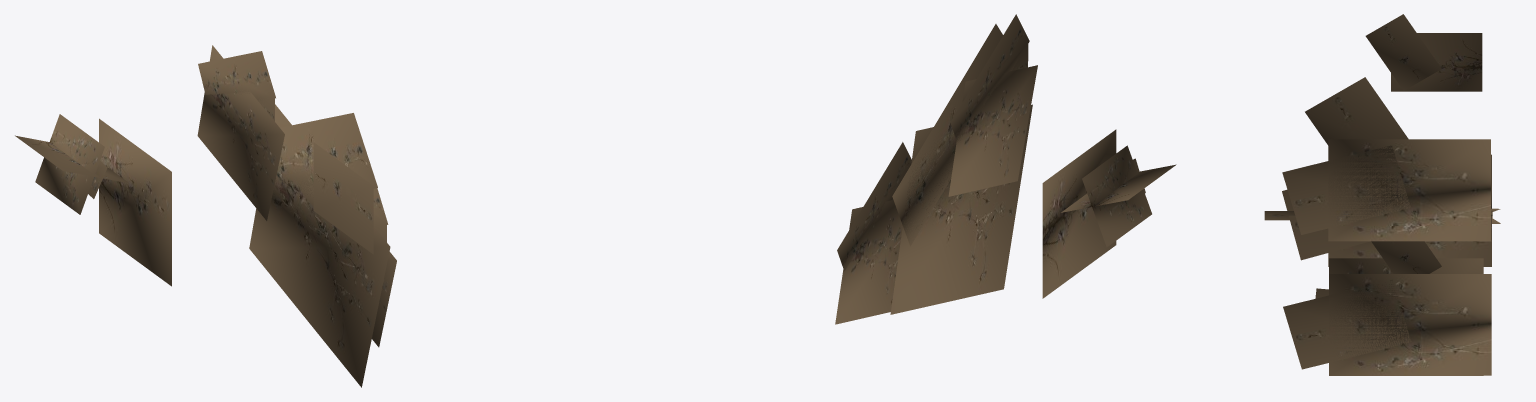
File: brush_desertshrubgroup01_tankdrive2.glb
The picture shows the model from 3 angles, left to right: view 1: azimuth 30°, elevation 25°; view 2: azimuth 150°, elevation 25°; view 3: azimuth 270°, elevation 25°; orthographic projection. The views are drawn at different scales.
Size of the model in its own units: 81.79 by 53.08 by 45.66.
1 material, 1 textured.
